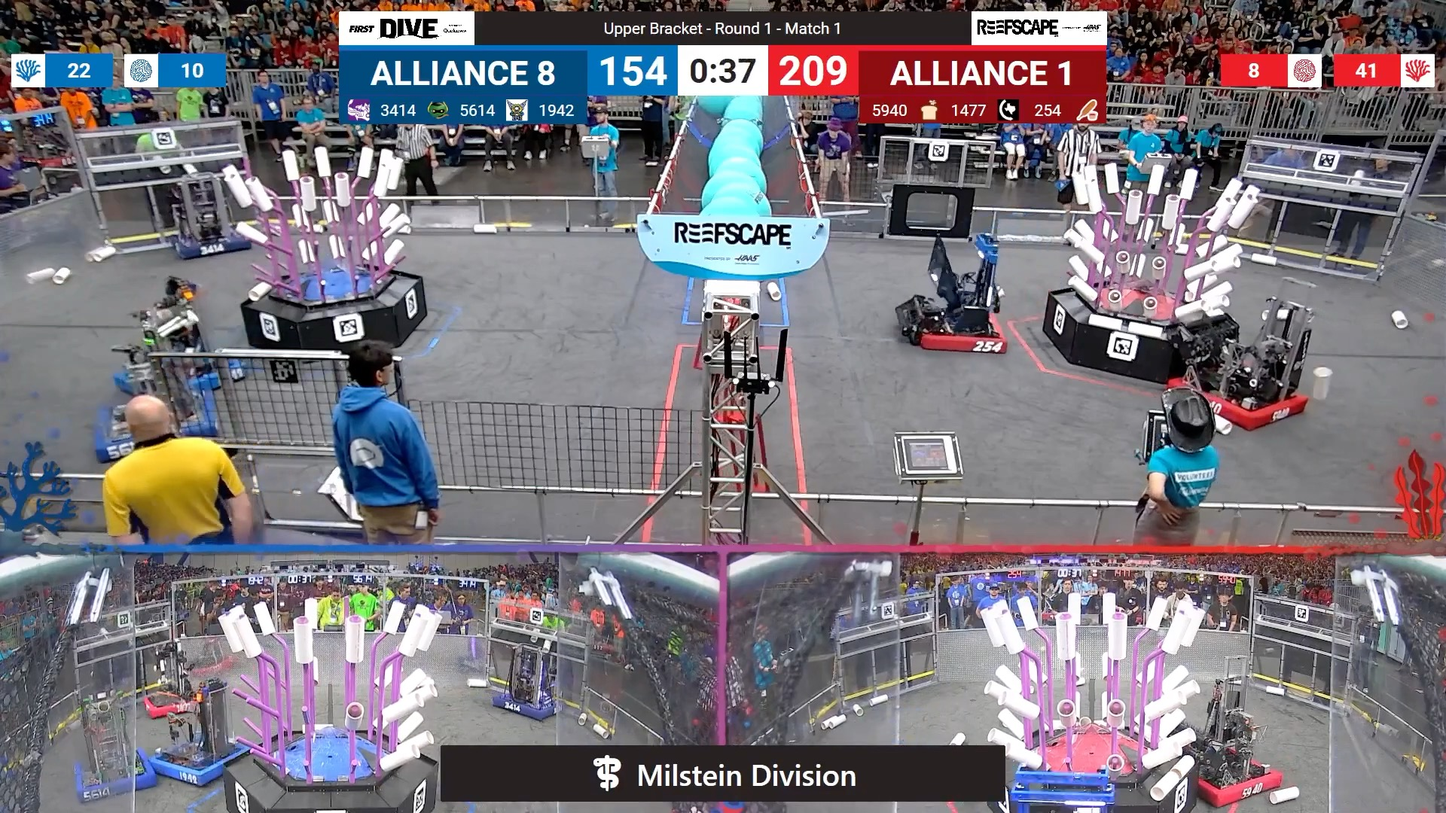bumpers: (1166, 369, 1318, 436), (91, 395, 230, 467), (898, 302, 1020, 362), (105, 351, 248, 400), (1179, 753, 1290, 808), (143, 739, 254, 790), (69, 749, 163, 804), (163, 223, 266, 263), (137, 685, 217, 722), (486, 693, 565, 727)
